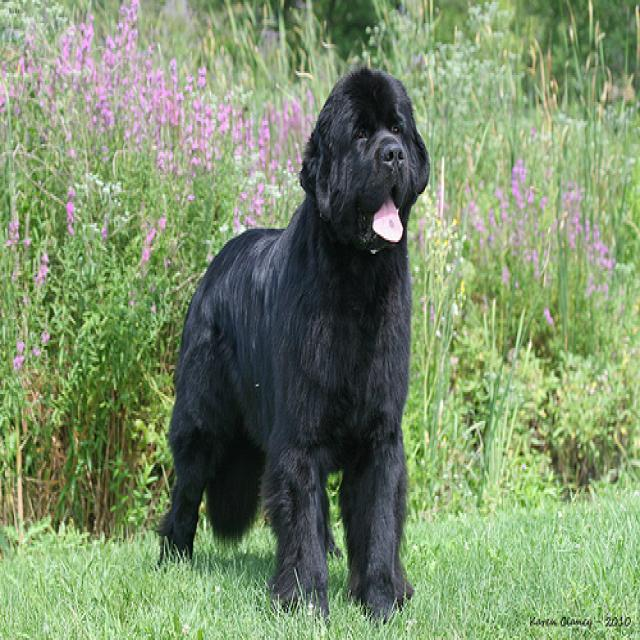dog-newfoundland: (143, 54, 439, 630)
